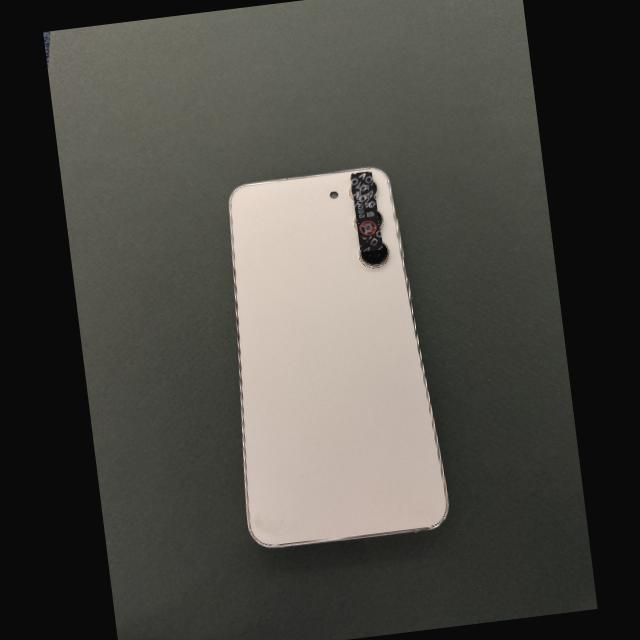lens: (358, 243, 387, 268), (376, 210, 382, 230), (372, 181, 376, 197)
phone: (229, 164, 448, 547)
sticker: (351, 171, 383, 252)
